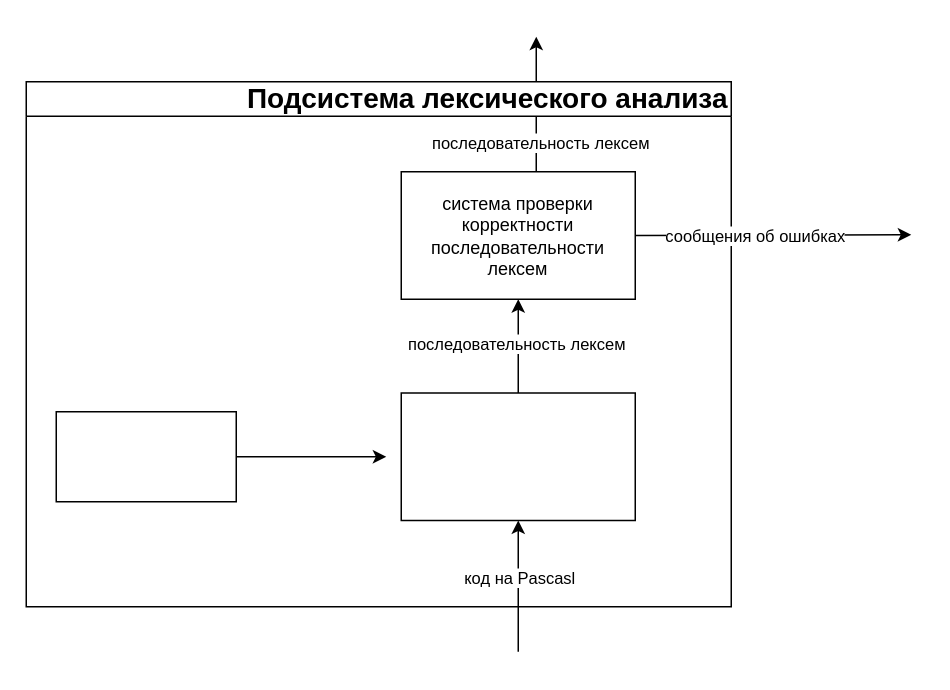
The diagram is 950 pixels wide and 690 high, and some of its shapes have lost their labels. Each missing label, with the centre of its shape:
множество регулярных выражений, задающее лексемы: [145,456]
система распознавания лексем: [517,456]
